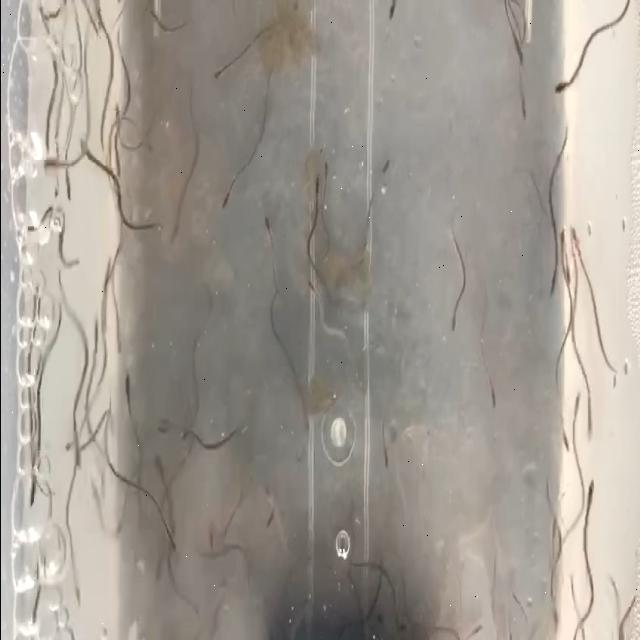active_glass_eel: (160, 509, 188, 564), (24, 461, 44, 514), (65, 236, 89, 280), (185, 586, 213, 623), (294, 280, 320, 318), (370, 146, 400, 178), (513, 86, 537, 125), (258, 476, 278, 522), (470, 603, 493, 640), (486, 372, 504, 414), (259, 195, 276, 238), (548, 258, 562, 310), (552, 68, 570, 108), (445, 301, 465, 337), (177, 412, 195, 452), (118, 371, 141, 401), (374, 450, 394, 484), (288, 426, 314, 450), (62, 416, 76, 460), (381, 0, 401, 30), (150, 450, 168, 482), (72, 437, 86, 475), (372, 598, 386, 636), (168, 214, 184, 247), (134, 6, 156, 30), (110, 336, 124, 372), (556, 424, 569, 462), (212, 48, 225, 86), (83, 318, 99, 348), (582, 477, 599, 505), (42, 152, 59, 179), (548, 602, 562, 634), (513, 40, 527, 70), (86, 482, 102, 508), (108, 522, 126, 545), (390, 618, 409, 639), (570, 388, 588, 410), (24, 592, 42, 614), (218, 184, 232, 212), (111, 102, 128, 125), (111, 154, 124, 184), (62, 175, 74, 207), (307, 174, 321, 201), (82, 136, 96, 162), (42, 24, 58, 46), (95, 129, 105, 160), (72, 576, 82, 606), (319, 153, 329, 180), (570, 226, 580, 248), (559, 224, 567, 250)
